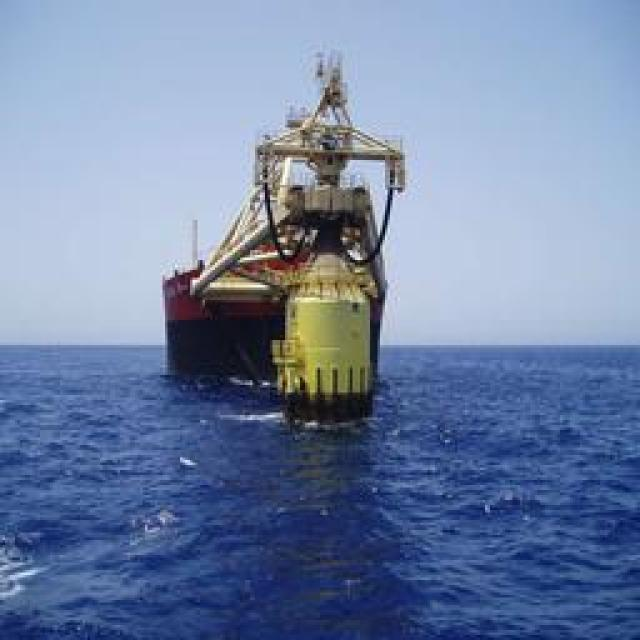CIV_Ship: (178, 56, 396, 424)
